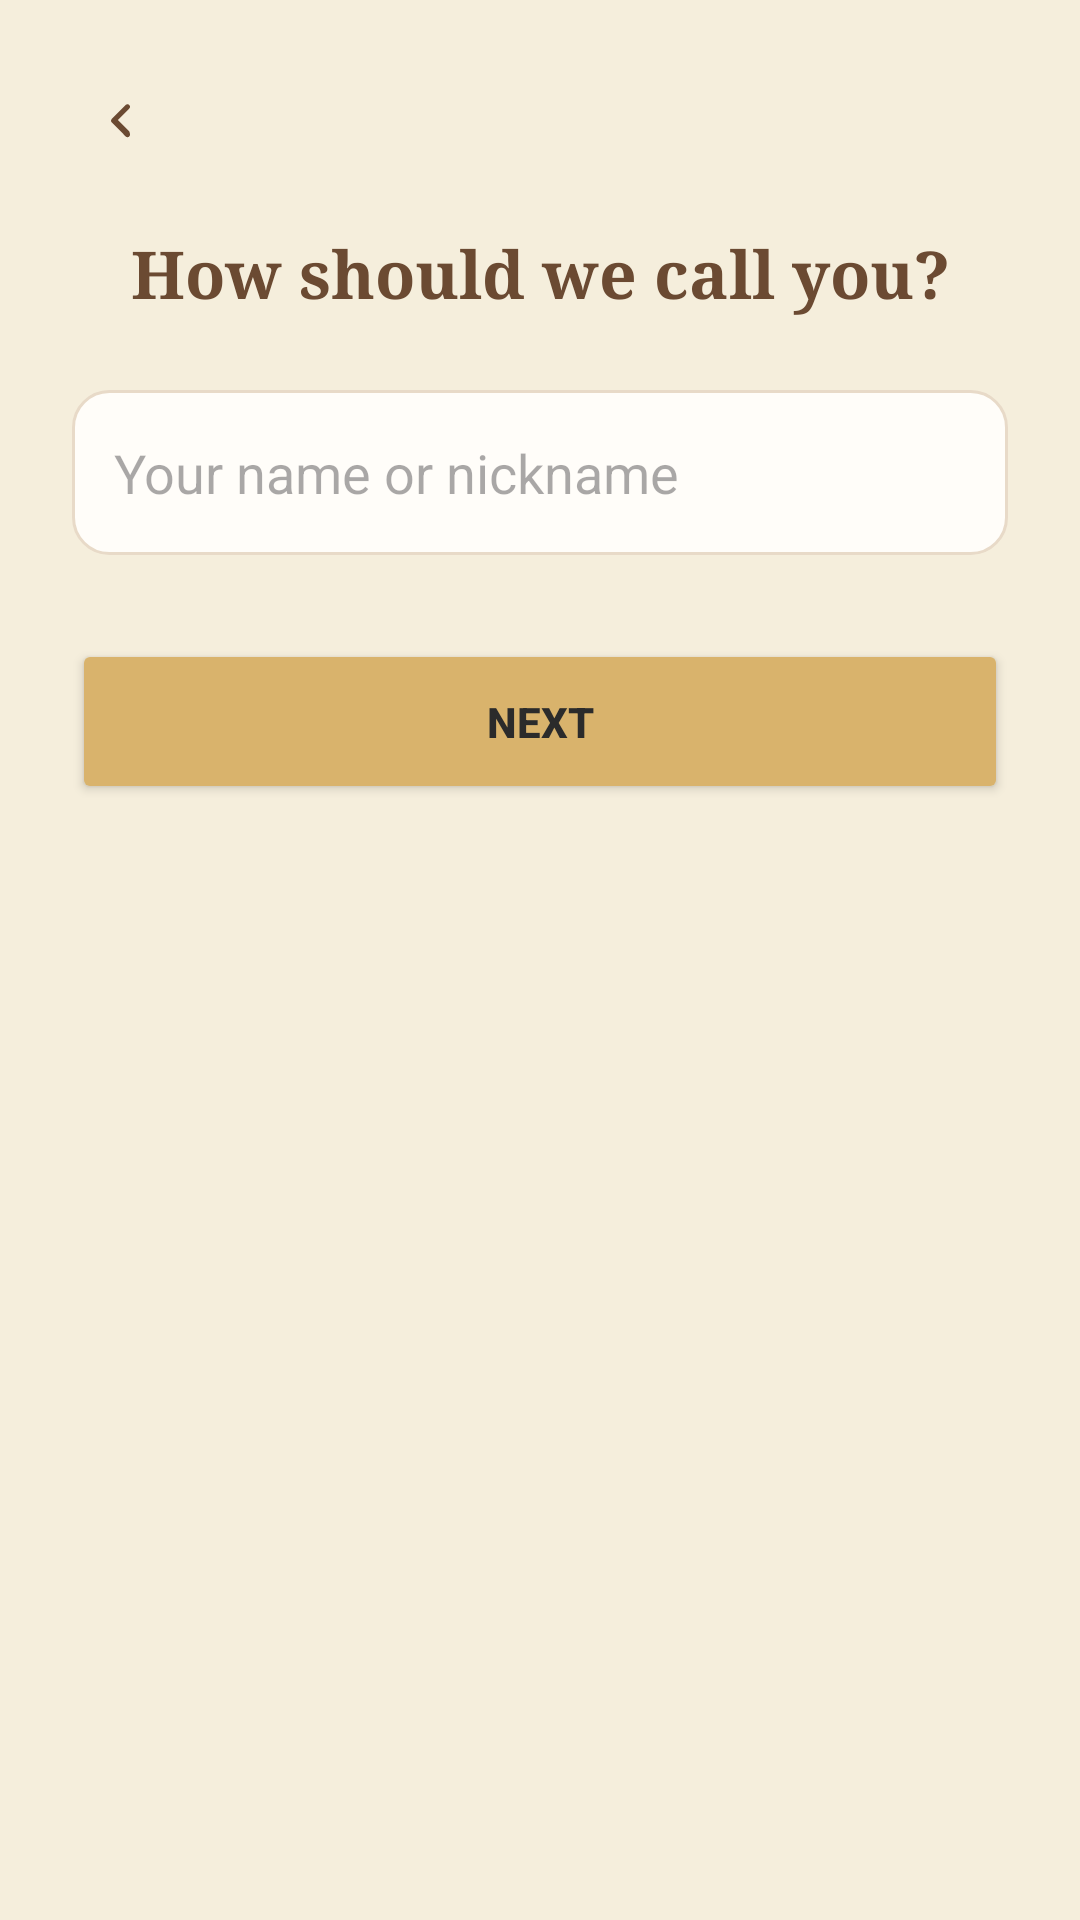

Where to tap for icons on this 1080px x 1920px app screen, as (x,y):
Back: (120,121)
